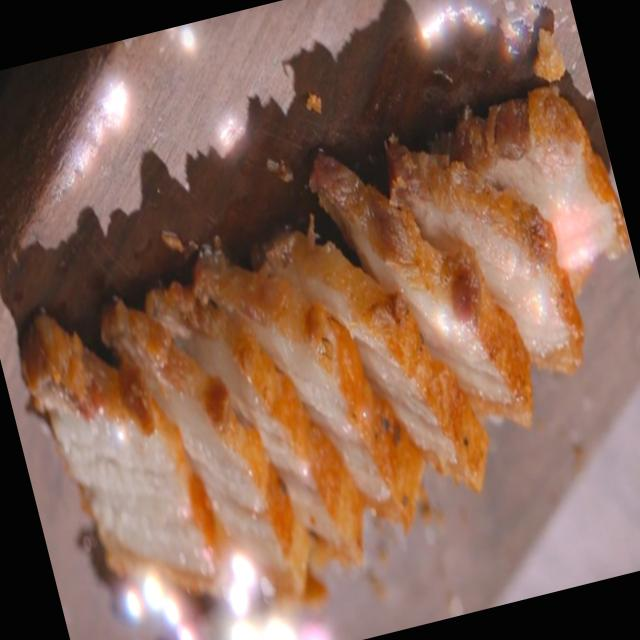thit chien: (310, 147, 532, 425), (101, 300, 309, 593), (194, 263, 423, 517), (265, 234, 488, 488), (22, 314, 217, 591), (174, 304, 366, 563), (387, 139, 581, 372), (455, 88, 628, 291)
